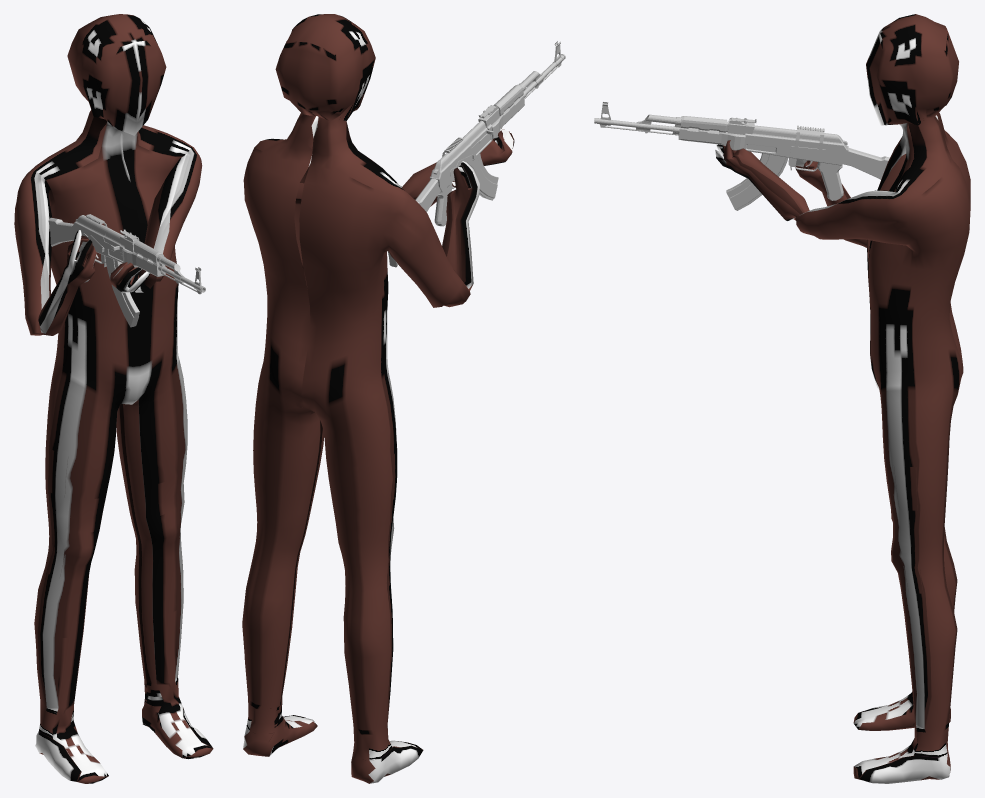
File: playerFire.obj
3 views of the same model, side by side, from view 1: azimuth 30°, elevation 25°; view 2: azimuth 150°, elevation 25°; view 3: azimuth 270°, elevation 25° (orthographic).
Visible parts, largest first — view 1: Cube_Cube.001, Cube.001_Cube; view 2: Cube_Cube.001, Cube.001_Cube; view 3: Cube_Cube.001, Cube.001_Cube.
Boxes of the visible parts, bbox=[...] form: Cube_Cube.001: bbox=[14, 14, 213, 783]; Cube.001_Cube: bbox=[48, 214, 205, 327]; Cube_Cube.001: bbox=[242, 14, 514, 783]; Cube.001_Cube: bbox=[388, 41, 565, 267]; Cube_Cube.001: bbox=[715, 14, 970, 783]; Cube.001_Cube: bbox=[594, 101, 889, 210].
Size of the model in its own units: 1.29 by 4.83 by 2.25.
